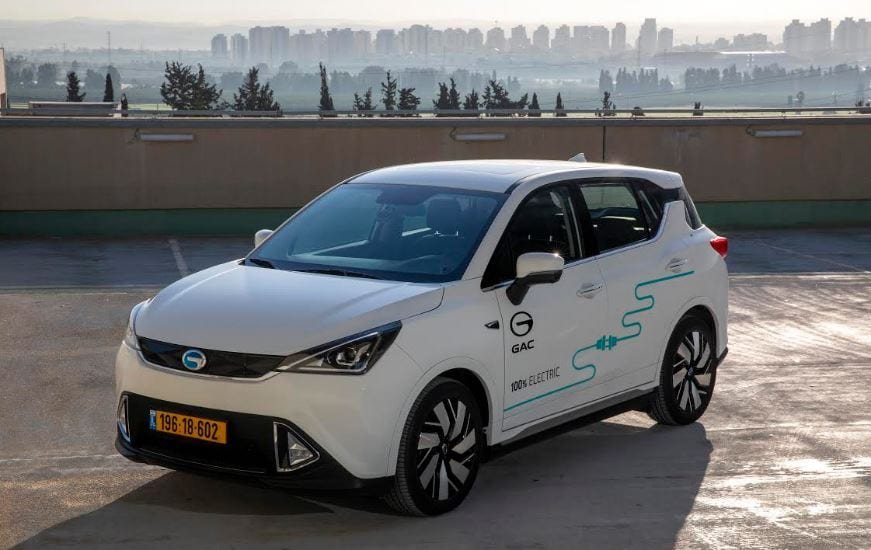licence: (148, 408, 227, 446)
